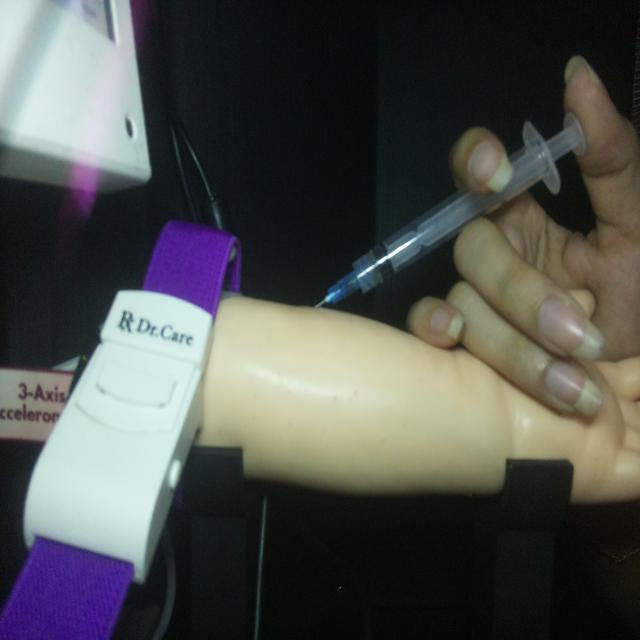22 degrees: (313, 109, 587, 310)
